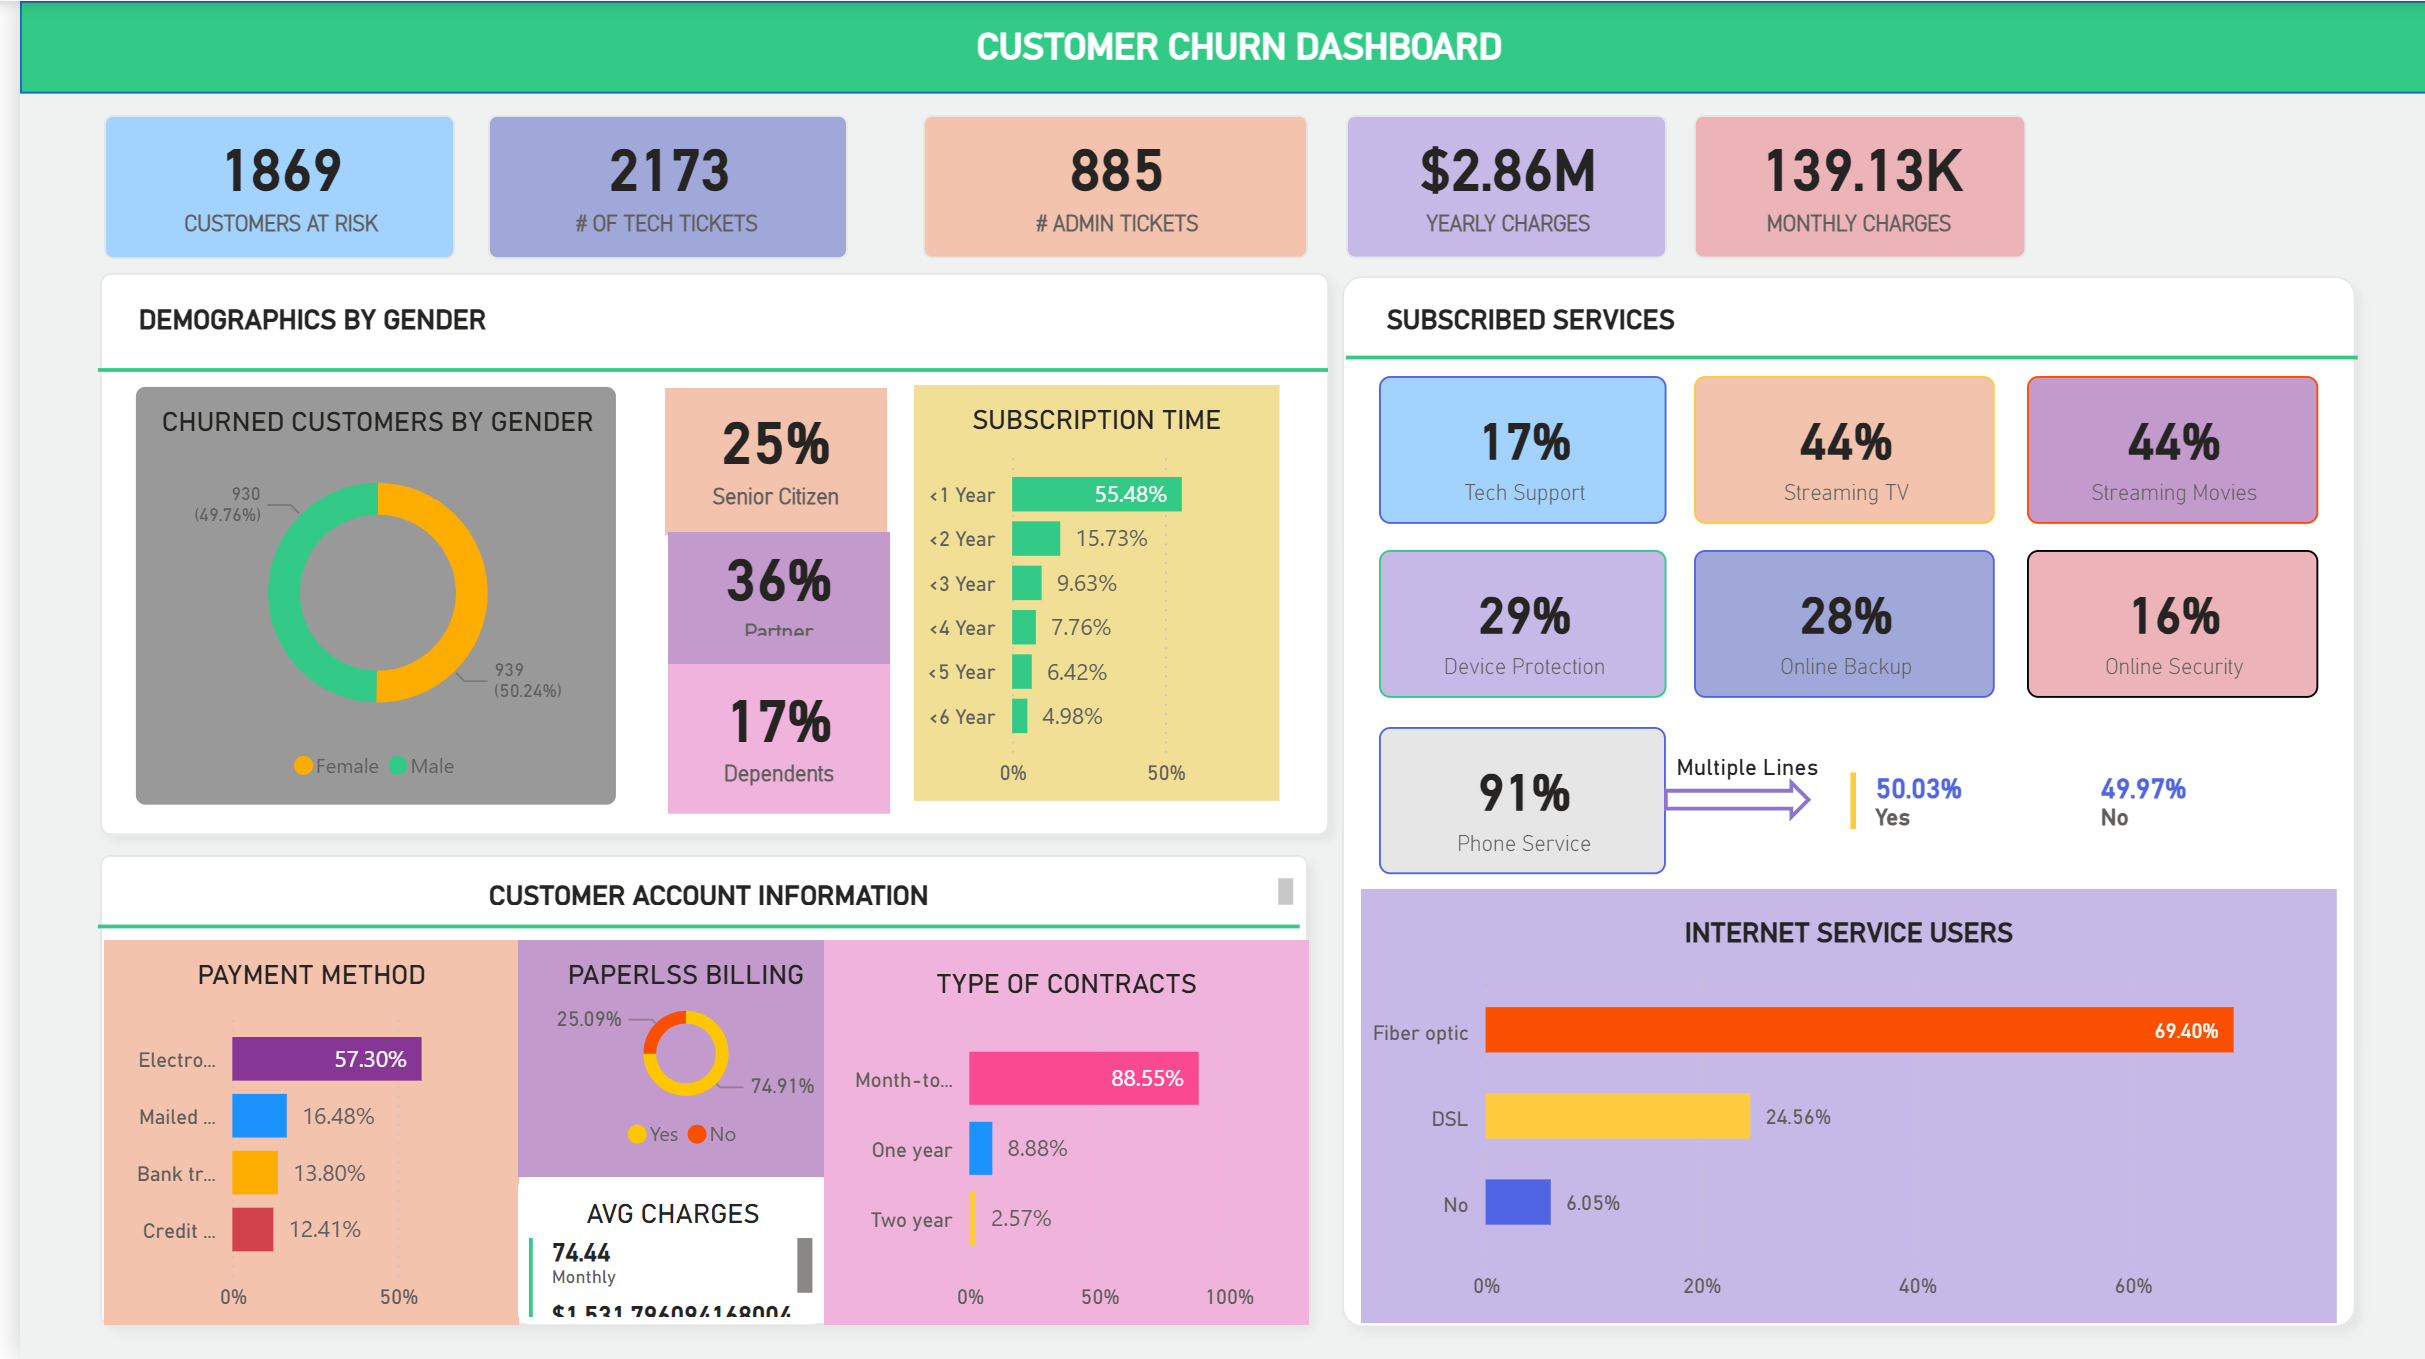

The dashboard page shown, as its layout file describes it:
{"tool":"powerbi","page":{"name":"Churn Dashboard","canvas":[1280,720],"ordinal":0},"visuals":[{"type":"shape","box":[0,0,1280,49],"z":0},{"type":"shape","box":[33.4,135.4,669.1,316],"z":0,"group":"g1"},{"type":"card","fields":{"Values":["Churn.% Tech Support"]},"box":[720,199,152.4,78.4],"z":0,"group":"g4"},{"type":"shape","box":[692,136,555,575],"z":1000},{"type":"card","fields":{"Values":["Churn.% Streaming TV"]},"box":[887.4,199,159.5,78.4],"z":1000,"group":"g4"},{"type":"donutChart","title":"CHURNED CUSTOMERS BY GENDER","fields":{"Category":["01 Churn-Dataset.gender"],"Y":["CountNonNull(01 Churn-Dataset.gender)"]},"box":[60.9,203.8,256.4,223.4],"z":1000,"group":"g1"},{"type":"shape","box":[702,123,536,133],"z":1500,"group":"g3"},{"type":"shape","box":[41.3,430.7,636.8,119.2],"z":1500,"group":"g2"},{"type":"textbox","box":[12.7,7.9,1266.8,33.4],"z":2000},{"type":"textbox","box":[703.8,145,522.6,38],"z":2000,"group":"g3"},{"type":"textbox","box":[42.2,145.5,641.6,47.3],"z":2000,"group":"g1"},{"type":"card","fields":{"Values":["Churn.% Streaming Movies"]},"box":[1062.8,199,154.2,78.4],"z":2000,"group":"g4"},{"type":"textbox","box":[43.5,450.4,636.8,34.1],"z":2000,"group":"g2"},{"type":"card","fields":{"Values":["Churn.% of Senior Citizen"]},"box":[341.1,204.7,117.6,77.9],"z":3000,"group":"g1"},{"type":"card","fields":{"Values":["Churn.% Device Protection"]},"box":[720,291.6,152.4,78.4],"z":3000,"group":"g4"},{"type":"shape","box":[34,444,658,267],"z":3000},{"type":"card","fields":{"Values":["CountNonNull(01 Churn-Dataset.customerID)"]},"box":[44.5,60.4,186,76.3],"z":4000},{"type":"card","fields":{"Values":["Churn.% of partner"]},"box":[342.7,281,117.6,69.9],"z":4000,"group":"g1"},{"type":"card","fields":{"Values":["Churn.% Online Backup"]},"box":[887.4,291.6,159.5,78.4],"z":4000,"group":"g4"},{"type":"shape","box":[40.7,144.3,651.7,101.7],"z":5000,"group":"g1"},{"type":"card","fields":{"Values":["Churn.% Online Sec"]},"box":[1062.8,291.6,154.2,78.4],"z":5000,"group":"g4"},{"type":"card","fields":{"Values":["Churn.% Phone Service"]},"box":[720,385,152,78],"z":5000},{"type":"card","fields":{"Values":["Sum(01 Churn-Dataset.numTechTickets)"]},"box":[247.9,60.4,190.7,76.3],"z":6000},{"type":"card","fields":{"Values":["Churn.% of Dependents"]},"box":[342.7,350.9,117.6,79.5],"z":6000,"group":"g1"},{"type":"clusteredBarChart","title":"SUBSCRIPTION TIME","fields":{"Y":["CountNonNull(Churn.Churn)"],"Category":["Churn.Tenure(in years)"]},"box":[473.6,203.8,193.7,220.4],"z":7000,"group":"g1"},{"type":"clusteredBarChart","title":"PAYMENT METHOD","fields":{"Y":["CountNonNull(Churn.PaymentMethod)"],"Category":["Churn.PaymentMethod"]},"box":[44,497,220,204],"z":7000},{"type":"card","fields":{"Values":["Sum(01 Churn-Dataset.TotalCharges)"]},"box":[702,60,170,76],"z":8000},{"type":"card","fields":{"Values":["Sum(01 Churn-Dataset.numAdminTickets)"]},"box":[479,60,204,76],"z":9000},{"type":"group","id":"g1","title":"Group 1","box":[33.4,135.4,669.1,316],"z":10000},{"type":"card","fields":{"Values":["Sum(01 Churn-Dataset.MonthlyCharges)"]},"box":[887,60,176,76],"z":11000},{"type":"donutChart","title":"PAPERLSS BILLING","fields":{"Category":["Churn.PaperlessBilling"],"Y":["CountNonNull(Churn.PaperlessBilling)"]},"box":[263.8,497.5,178,125.6],"z":12000},{"type":"multiRowCard","title":"AVG CHARGES","fields":{"Values":["Avg(Churn.MonthlyCharges)","Avg(Churn.TotalCharges)"]},"box":[263.8,623,162.1,77.9],"z":13000},{"type":"clusteredBarChart","title":"TYPE OF CONTRACTS","fields":{"Category":["Churn.Contract"],"Y":["CountNonNull(Churn.Contract)"]},"box":[426,497,257,204],"z":14000},{"type":"group","id":"g2","title":"Group 2","box":[41.3,430.7,638.9,119.2],"z":15000},{"type":"group","id":"g3","title":"Group 2","box":[702,123,536,133],"z":16000},{"type":"group","id":"g4","title":"Group 3","box":[720,199,497,171],"z":17000},{"type":"shape","box":[871,412,78,23],"z":18000},{"type":"textbox","box":[872,391,300,30],"z":19000},{"type":"multiRowCard","fields":{"Values":["Churn.% Yes-Multiple Lines","Churn.% No-Multiple Lines"]},"box":[964.8,403.7,262.3,54],"z":20000},{"type":"barChart","title":"INTERNET SERVICE USERS","fields":{"Y":["CountNonNull(Churn.InternetService)"],"Category":["Churn.InternetService"]},"box":[710,471,517,230],"z":21000}]}

Visuals, with their boxes in screenshot pixels (x1, y1, x2, y2), scaled from the page's 1280x720 canvas onto the 2425x1359 screenshot:
shape: x1=0 y1=0 x2=2424 y2=92
shape: x1=63 y1=256 x2=1331 y2=852
card - Churn.% Tech Support: x1=1364 y1=376 x2=1653 y2=524
shape: x1=1311 y1=257 x2=2362 y2=1342
card - Churn.% Streaming TV: x1=1681 y1=376 x2=1983 y2=524
"CHURNED CUSTOMERS BY GENDER" donutChart: x1=115 y1=385 x2=601 y2=806
shape: x1=1330 y1=232 x2=2345 y2=483
shape: x1=78 y1=813 x2=1285 y2=1038
textbox: x1=24 y1=15 x2=2424 y2=78
textbox: x1=1333 y1=274 x2=2323 y2=345
textbox: x1=80 y1=275 x2=1295 y2=364
card - Churn.% Streaming Movies: x1=2014 y1=376 x2=2306 y2=524
textbox: x1=82 y1=850 x2=1289 y2=914
card - Churn.% of Senior Citizen: x1=646 y1=386 x2=869 y2=533
card - Churn.% Device Protection: x1=1364 y1=550 x2=1653 y2=698
shape: x1=64 y1=838 x2=1311 y2=1342
card - CountNonNull(01 Churn-Dataset.customerID): x1=84 y1=114 x2=437 y2=258
card - Churn.% of partner: x1=649 y1=530 x2=872 y2=662
card - Churn.% Online Backup: x1=1681 y1=550 x2=1983 y2=698
shape: x1=77 y1=272 x2=1312 y2=464
card - Churn.% Online Sec: x1=2014 y1=550 x2=2306 y2=698
card - Churn.% Phone Service: x1=1364 y1=727 x2=1652 y2=874
card - Sum(01 Churn-Dataset.numTechTickets): x1=470 y1=114 x2=831 y2=258
card - Churn.% of Dependents: x1=649 y1=662 x2=872 y2=812
"SUBSCRIPTION TIME" clusteredBarChart: x1=897 y1=385 x2=1264 y2=801
"PAYMENT METHOD" clusteredBarChart: x1=83 y1=938 x2=500 y2=1323
card - Sum(01 Churn-Dataset.TotalCharges): x1=1330 y1=113 x2=1652 y2=257
card - Sum(01 Churn-Dataset.numAdminTickets): x1=907 y1=113 x2=1294 y2=257
"Group 1" group: x1=63 y1=256 x2=1331 y2=852
card - Sum(01 Churn-Dataset.MonthlyCharges): x1=1680 y1=113 x2=2014 y2=257
"PAPERLSS BILLING" donutChart: x1=500 y1=939 x2=837 y2=1176
"AVG CHARGES" multiRowCard: x1=500 y1=1176 x2=807 y2=1323
"TYPE OF CONTRACTS" clusteredBarChart: x1=807 y1=938 x2=1294 y2=1323
"Group 2" group: x1=78 y1=813 x2=1289 y2=1038
"Group 2" group: x1=1330 y1=232 x2=2345 y2=483
"Group 3" group: x1=1364 y1=376 x2=2306 y2=698
shape: x1=1650 y1=778 x2=1798 y2=821
textbox: x1=1652 y1=738 x2=2220 y2=795
multiRowCard - Churn.% Yes-Multiple Lines x Churn.% No-Multiple Lines: x1=1828 y1=762 x2=2325 y2=864
"INTERNET SERVICE USERS" barChart: x1=1345 y1=889 x2=2325 y2=1323
